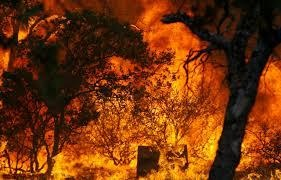fire: (0, 1, 244, 176)
